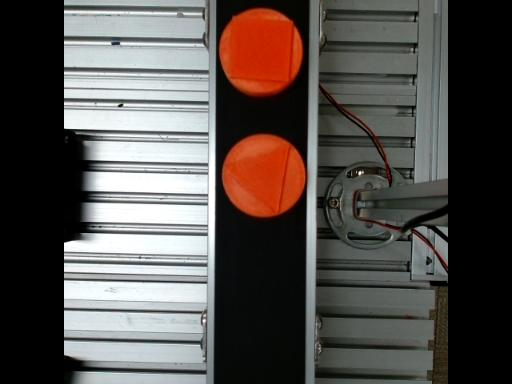Not_Square: (223, 141, 291, 213)
Orange_Waper: (219, 7, 302, 95), (222, 133, 306, 217)
Square: (227, 15, 294, 83)
